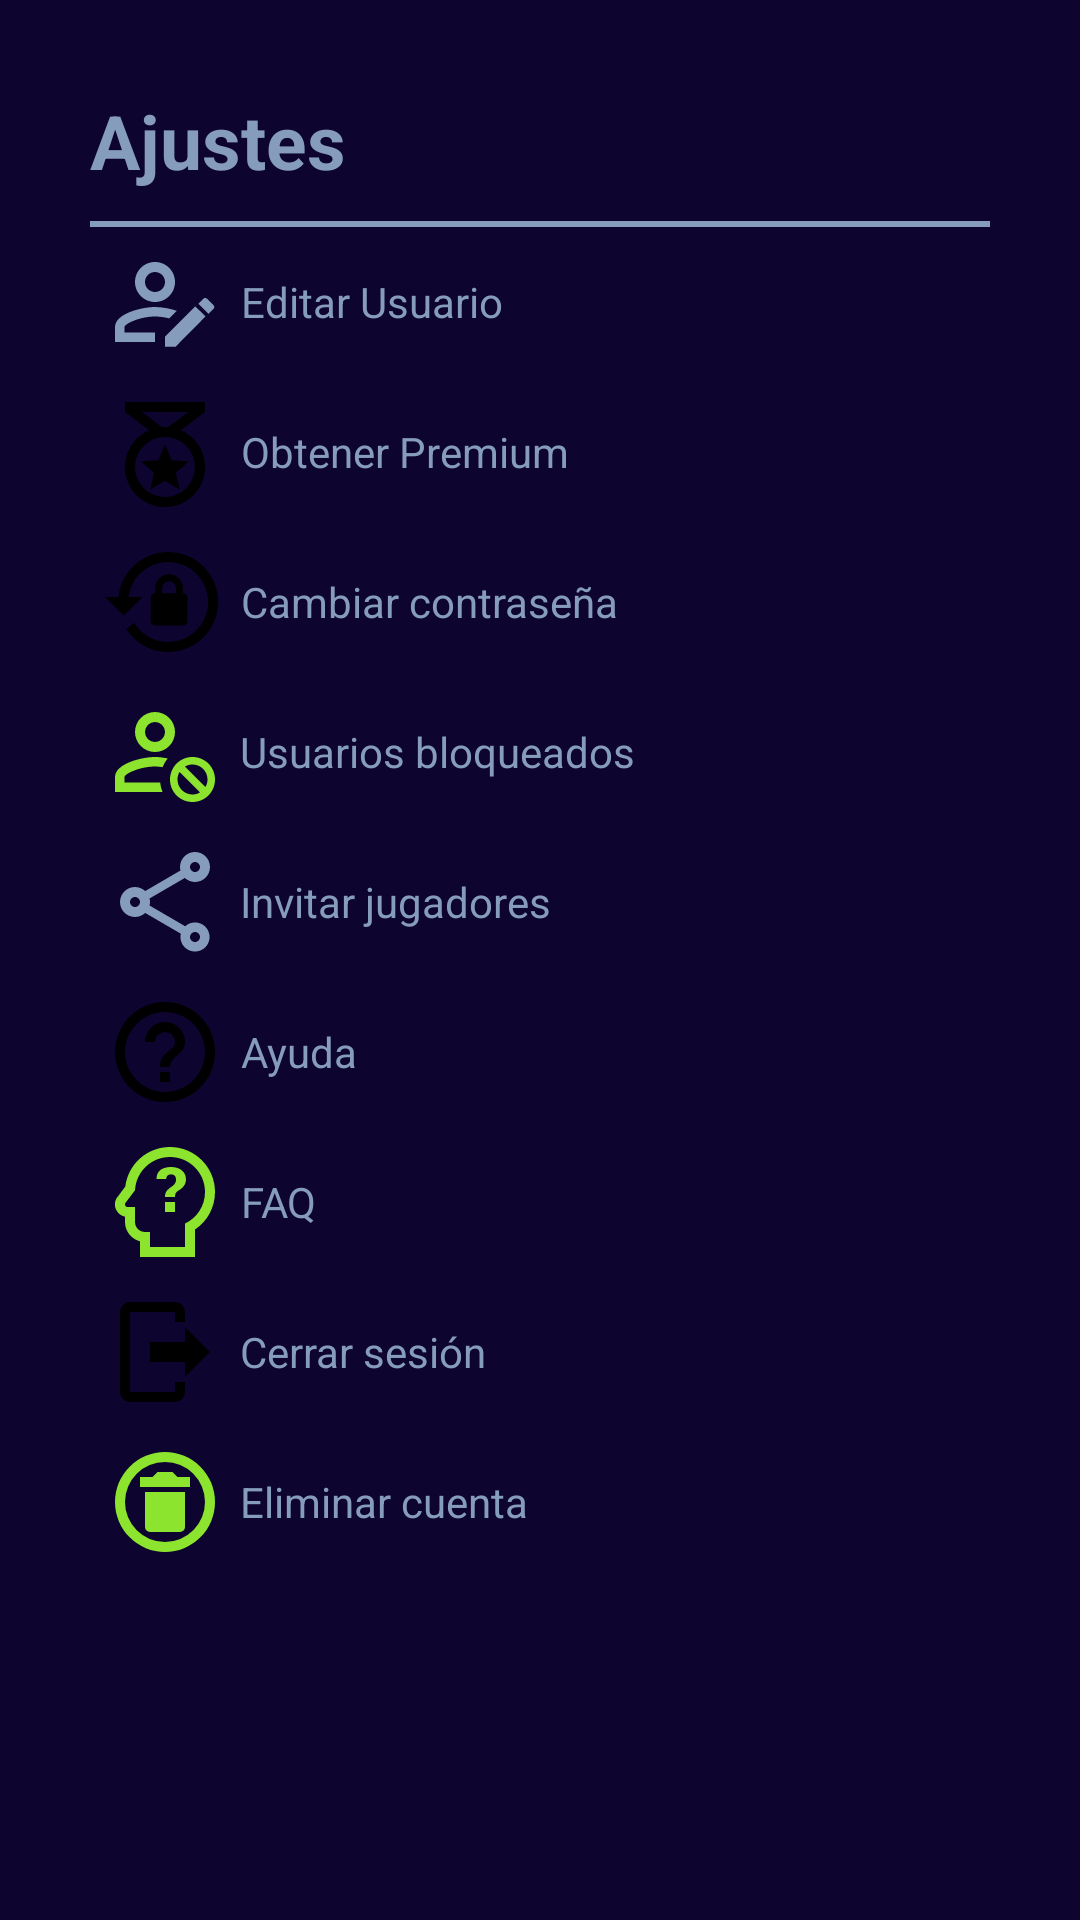

Screen size 1080x1920. Icon name, then its box in pixels as (x1, y1, x2, y2):
ajustecerrarsesion: (120, 1302, 209, 1402)
ajustecontrasena: (106, 552, 218, 652)
ajustepremiun: (125, 402, 205, 507)
ajustesfaq: (115, 1147, 215, 1257)
ajusteshare: (120, 852, 210, 952)
ajusteshelp: (115, 1002, 215, 1102)
